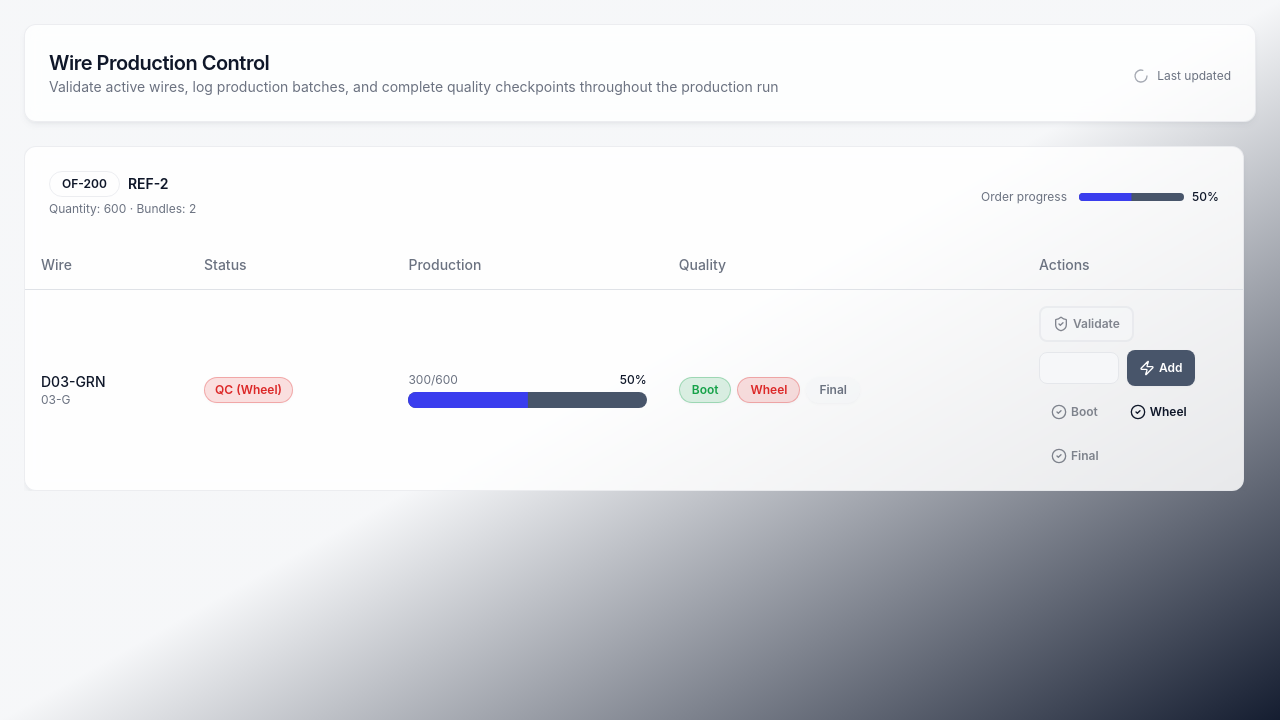
it: Wires workflow (quality gating) › wheel reminder keeps production controls available while test pending
Check: the button "Add" is enabled, box [1127, 350, 1194, 386]
Complete wheel test
Click the button "Wheel": (1158, 412) [1118, 394, 1199, 430]
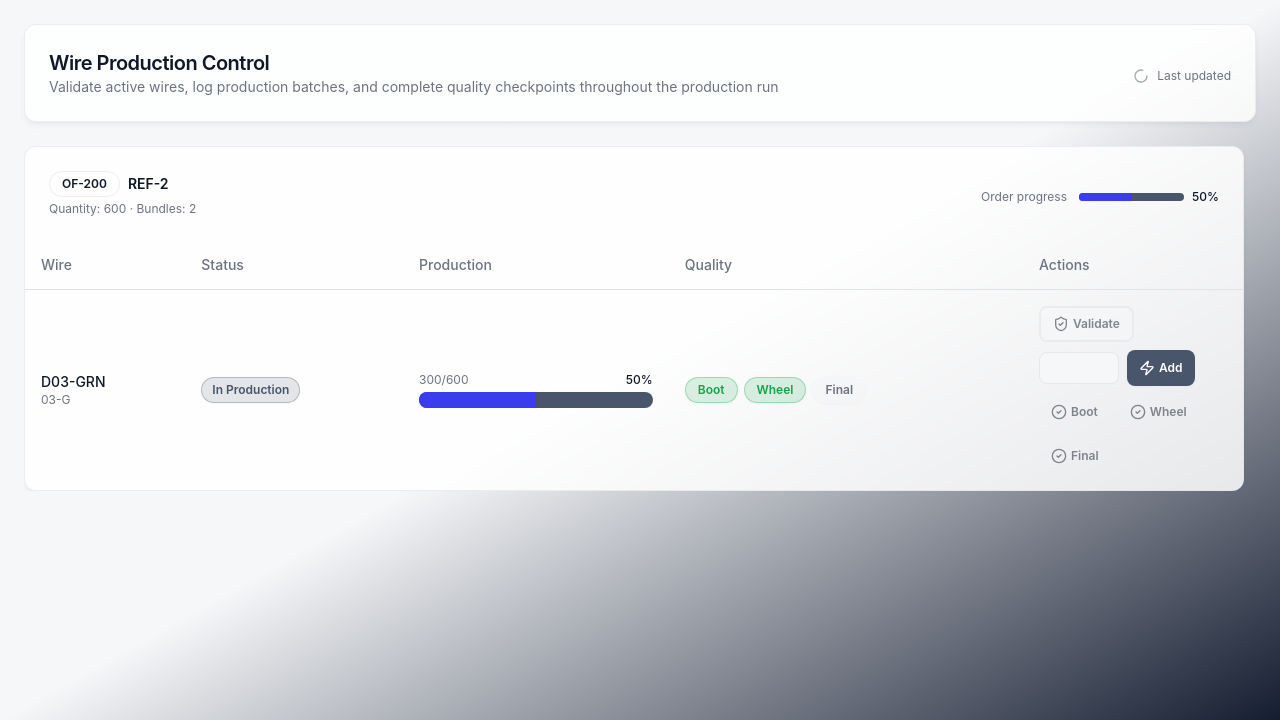
Check: the button "Wheel" is disabled, box [1118, 394, 1199, 430]
